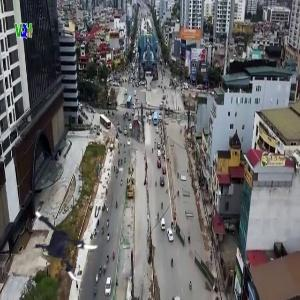drone: (24, 200, 112, 288)
